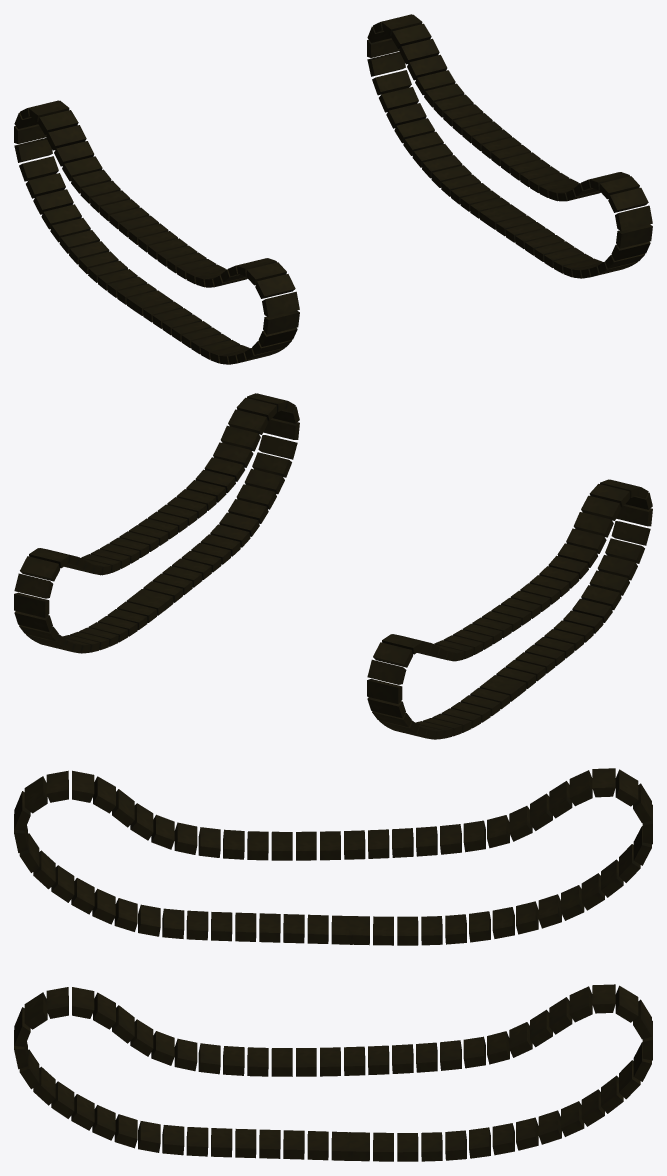
Rendered from telaketjut.fbx.
3 renders of one model, top to bottom at view 1: azimuth 30°, elevation 25°; view 2: azimuth 150°, elevation 25°; view 3: azimuth 270°, elevation 25°, orthographic. The views are drawn at different scales.
Visible parts, largest first — view 1: Telaketjut; view 2: Telaketjut; view 3: Telaketjut.
Boxes of the visible parts, x1,y1,x2,y2 form: Telaketjut: (14, 14, 652, 364); Telaketjut: (14, 393, 652, 739); Telaketjut: (14, 768, 652, 1161).
Bounding box in the file's own units: 7.28 × 2.28 × 8.36.
